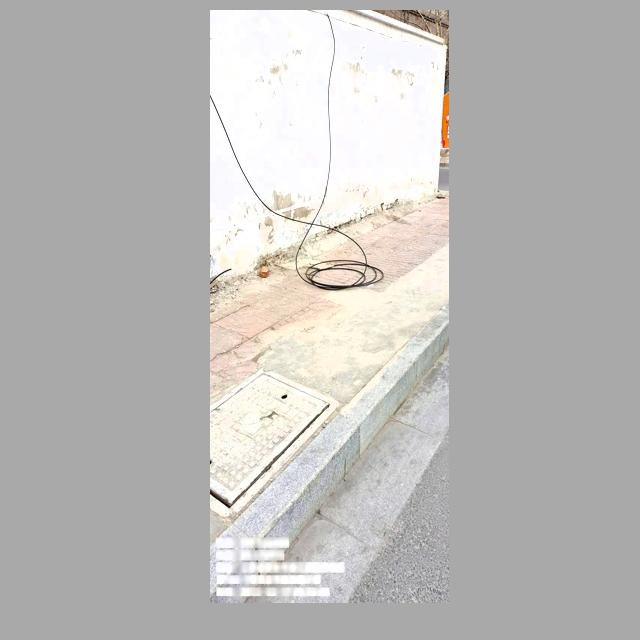good: (210, 367, 339, 515)
